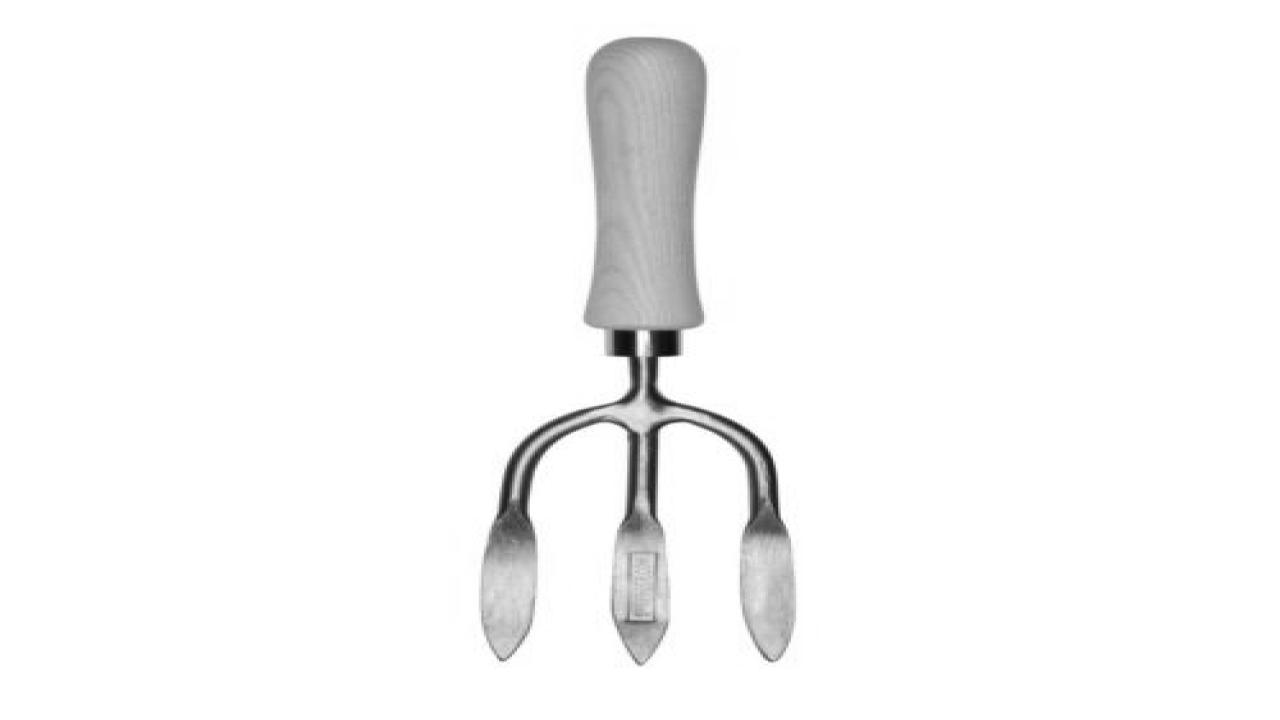fork: (476, 35, 796, 665)
